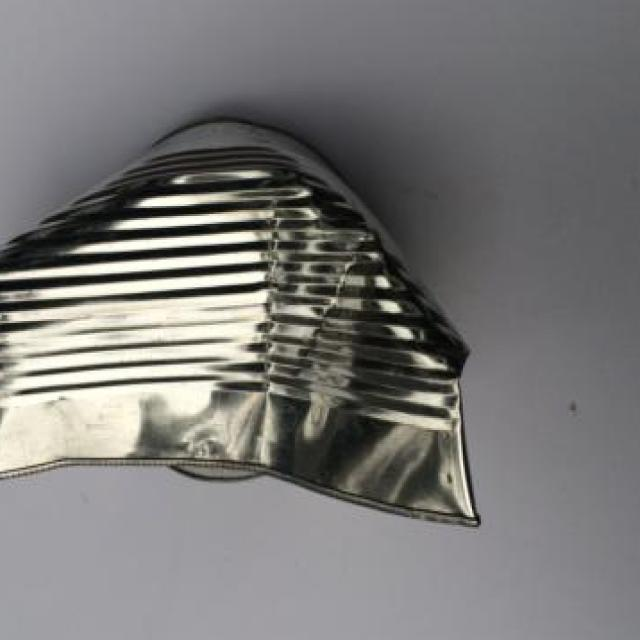organic: (0, 108, 480, 537)
